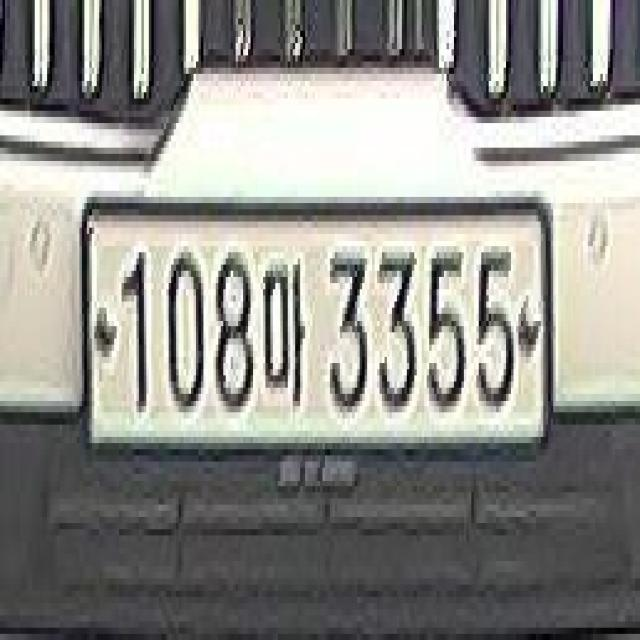illegal_plate: (82, 176, 552, 484)
